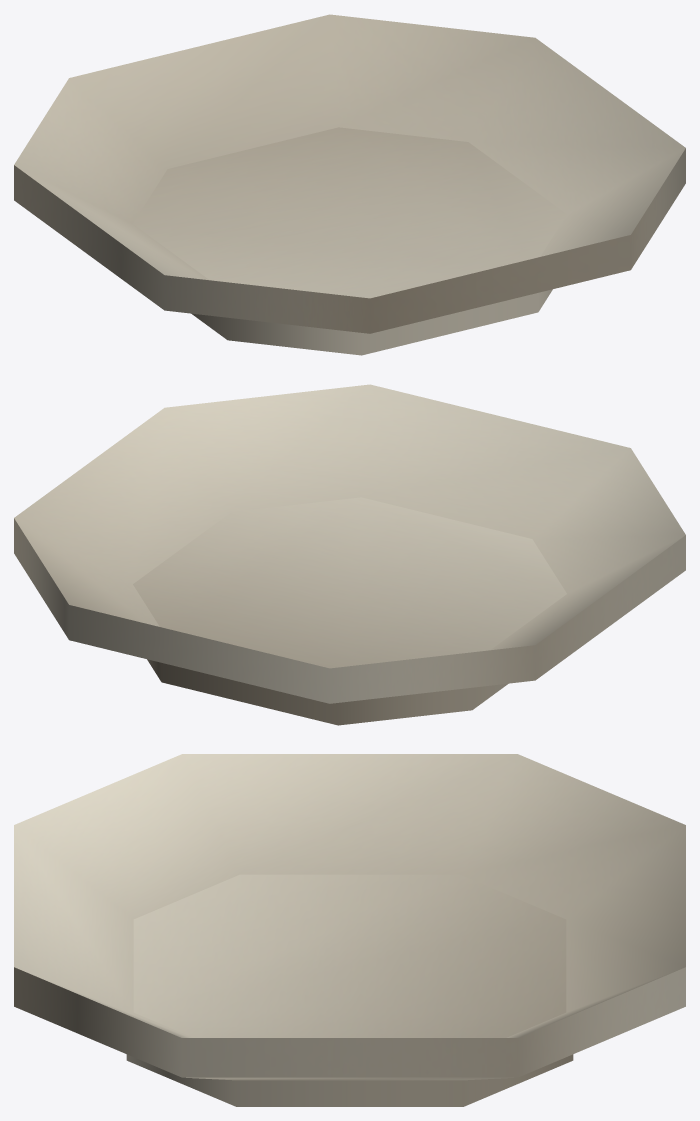
The model's file is plate_ceramic.fbx.
3 renders of one model, top to bottom at view 1: azimuth 30°, elevation 25°; view 2: azimuth 150°, elevation 25°; view 3: azimuth 270°, elevation 25°, orthographic. The views are drawn at different scales.
Parts seen in each view (by area): view 1: plate_ceramic; view 2: plate_ceramic; view 3: plate_ceramic.
Boxes of the visible parts, x1,y1,x2,y2 form: plate_ceramic: (14,14,685,355); plate_ceramic: (14,384,685,725); plate_ceramic: (14,754,685,1106).
Bounding box in the file's own units: 51.71 × 9.88 × 51.71.
